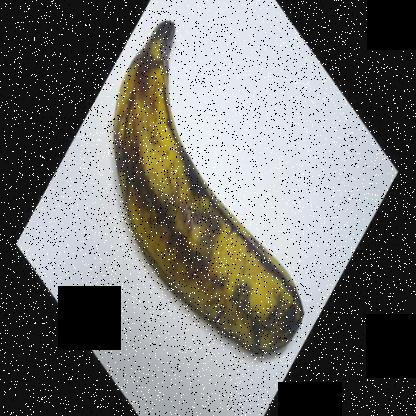overripe: (108, 7, 312, 353)
